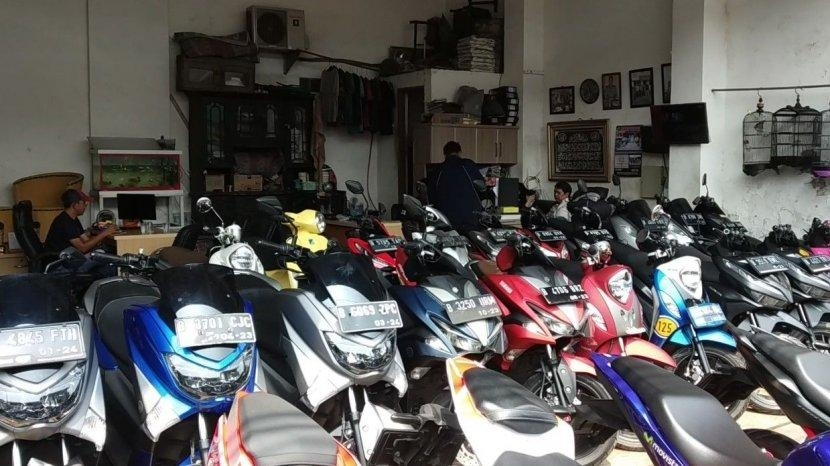plate: (1, 323, 85, 367), (177, 314, 252, 342), (335, 302, 401, 330), (443, 293, 499, 323), (539, 284, 589, 305)
